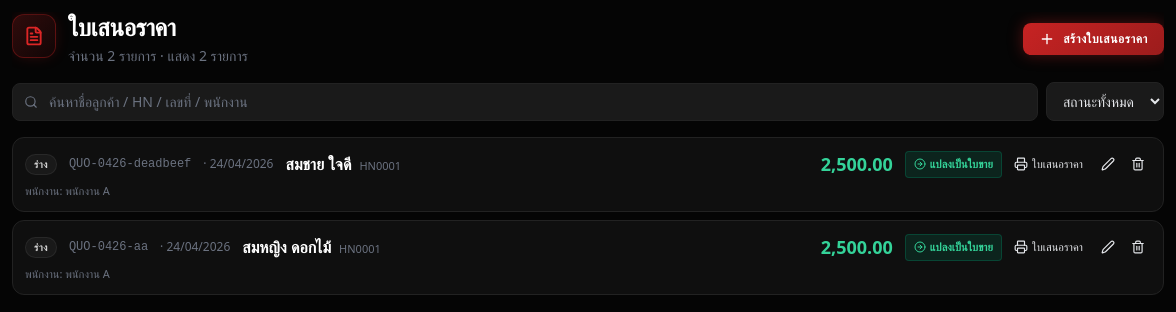
Test: QuotationTab › QT4: search filters by customer name
This screenshot has width=1176, height=312.
Expected: the text "สมชาย ใจดี" is shown, [286,153,351,175]
Type "สมหญิง" into the field with placeholder "ค้นหาชื่อลูกค้า / HN / เลขที่ / พนักงาน" at (525, 102), box [12,82,1038,120]
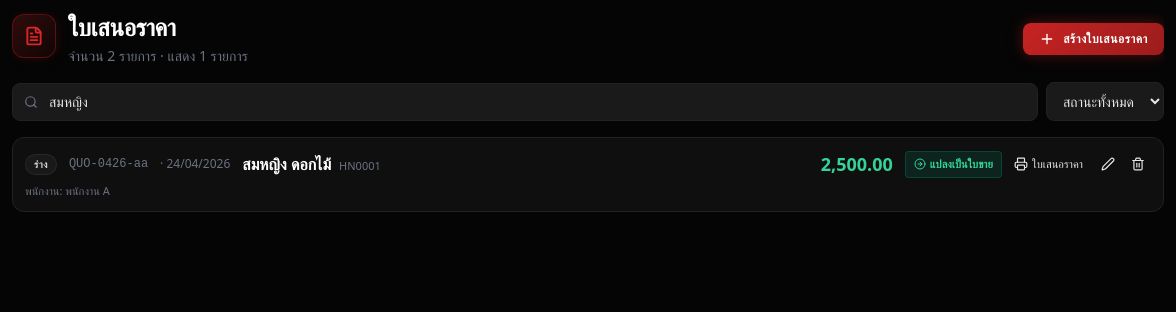
Expected: the text "สมหญิง ดอกไม้" is shown, [242,153,331,175]
Now the text "สมชาย ใจดี" is gone
